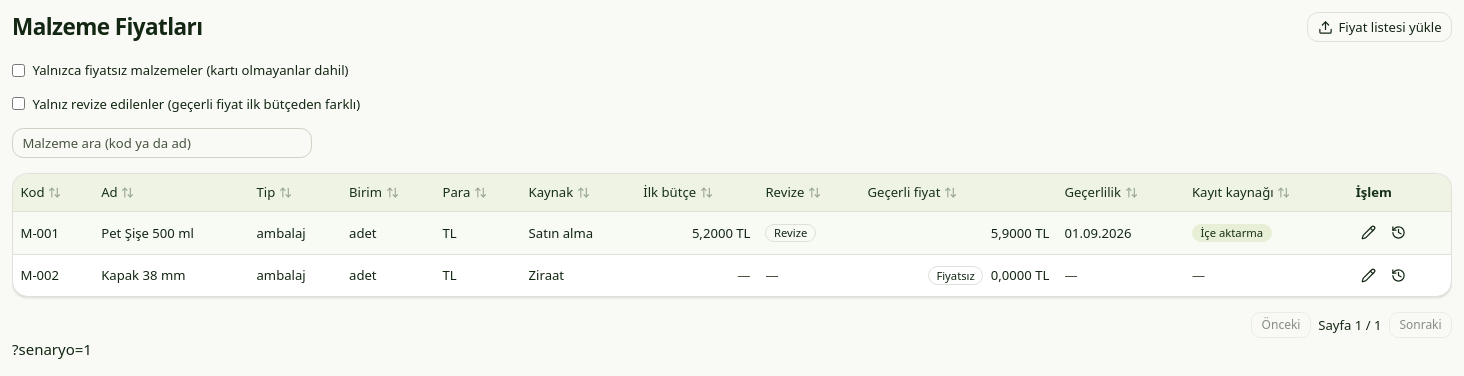
Test: MalzemeFiyatlari › G2: 'Yalnız revize edilenler' süzgeci revize=true ile sorgular ve URL'ye revize=1 yazar
Check: the text "Pet Şişe 500 ml" is shown, box [94,212,249,254]
Check: the text "Kapak 38 mm" is shown, box [94,254,249,296]
Click the checkbox labelled "Yalnız revize edilenler (geçerli fiyat ilk bütçeden farklı)": (18, 104) [12,97,25,110]
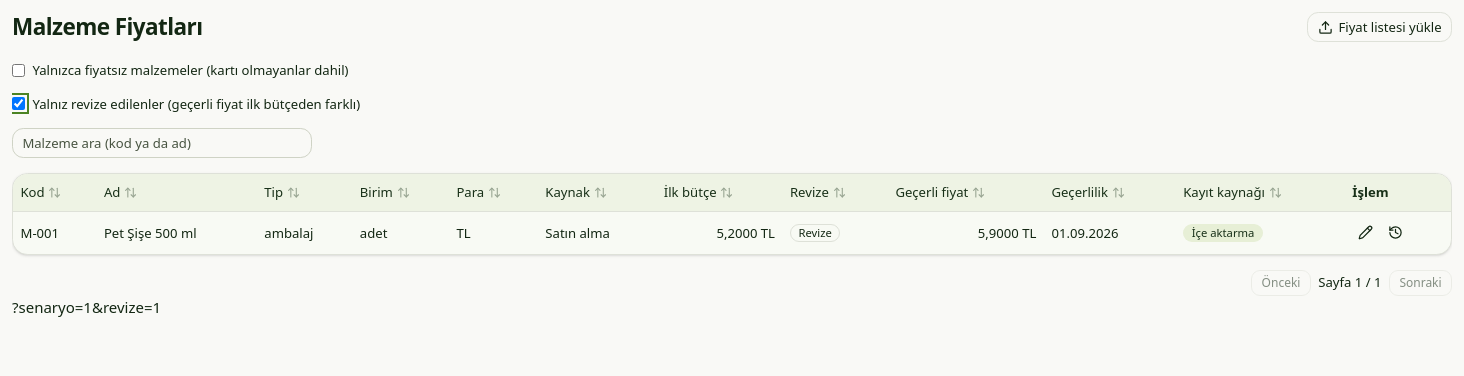
Check: the text "Pet Şişe 500 ml" is shown, box [96,212,257,254]
Check: the text "Kapak 38 mm" is gone
Check: the text with test id "konum-arama" shows "revize=1", box [12,297,161,317]
Click the checkbox labelled "Yalnız revize edilenler (geçerli fiyat ilk bütçeden farklı)": (18, 104) [12,97,25,110]
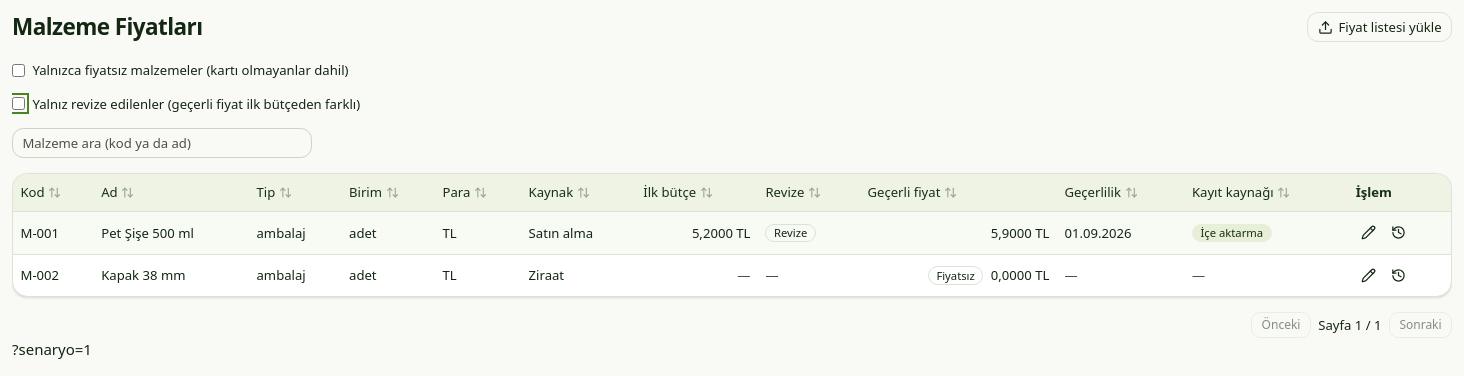
Check: the text with test id "konum-arama" does not show "revize", box [12,339,92,359]
Check: the text "Kapak 38 mm" is shown, box [94,254,249,296]
